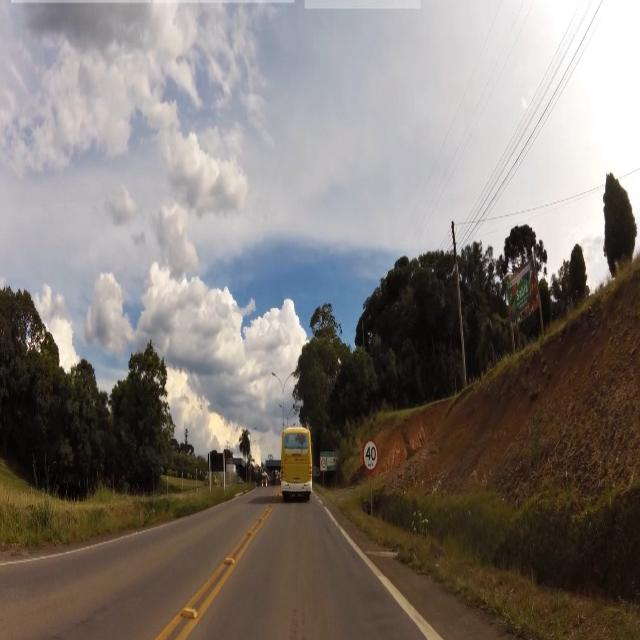R-19: (363, 441, 382, 475)
